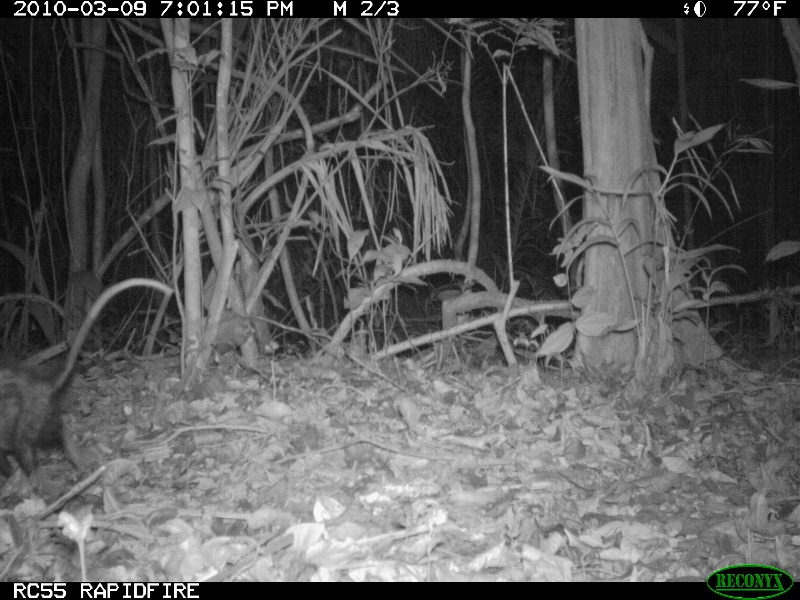opossum: (8, 273, 182, 477)
